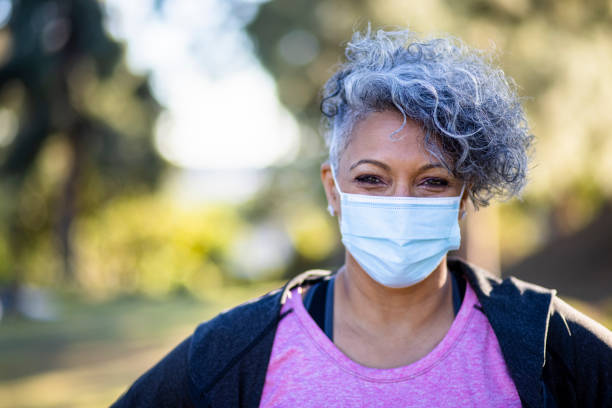with mask: (306, 36, 500, 291)
